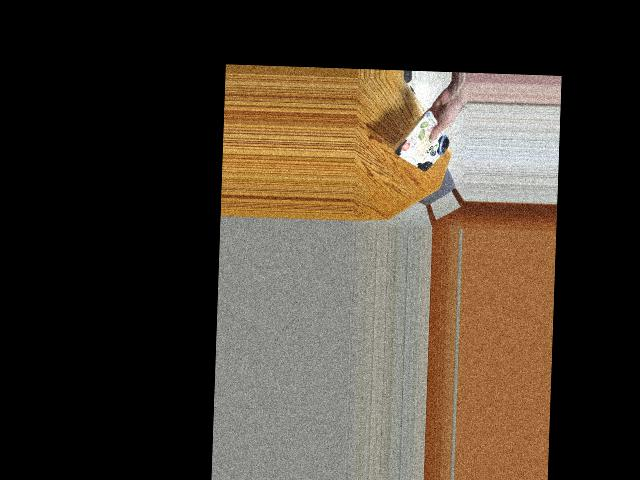cheese: (397, 117, 444, 172)
